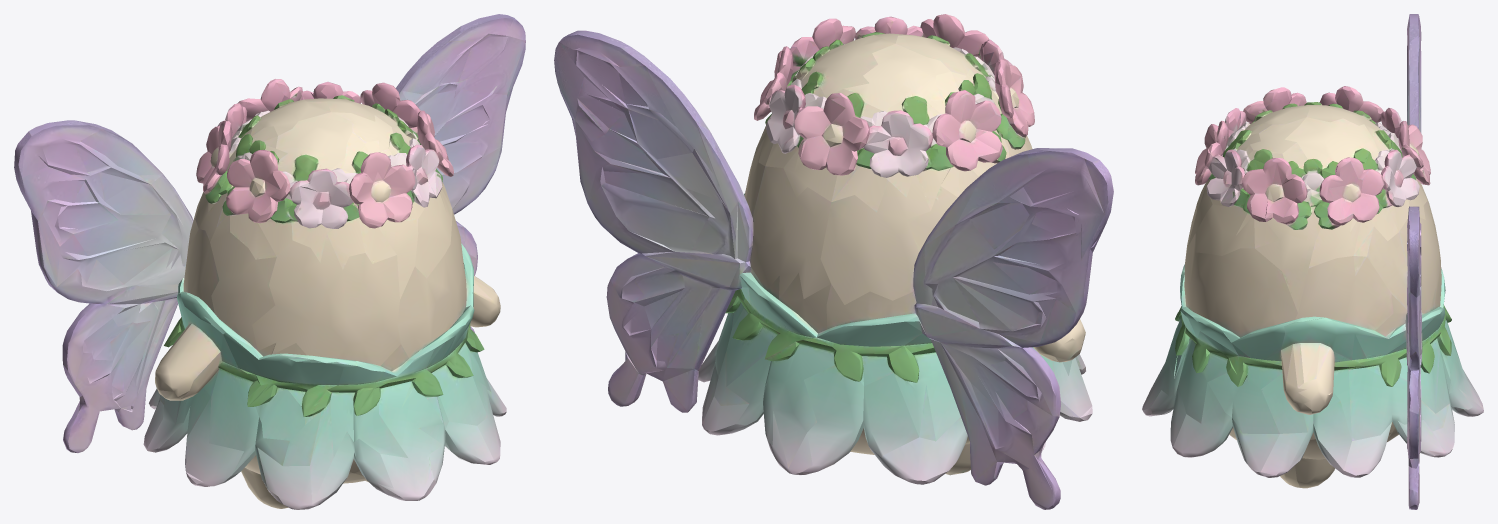
The model's file is fairy.glb.
The picture shows the model from 3 angles, left to right: view 1: azimuth 30°, elevation 25°; view 2: azimuth 150°, elevation 25°; view 3: azimuth 270°, elevation 25°; orthographic projection. The views are drawn at different scales.
Size of the model in its own units: 1.9 by 1.36 by 1.21.
Materials: 1 (1 with a texture image).
